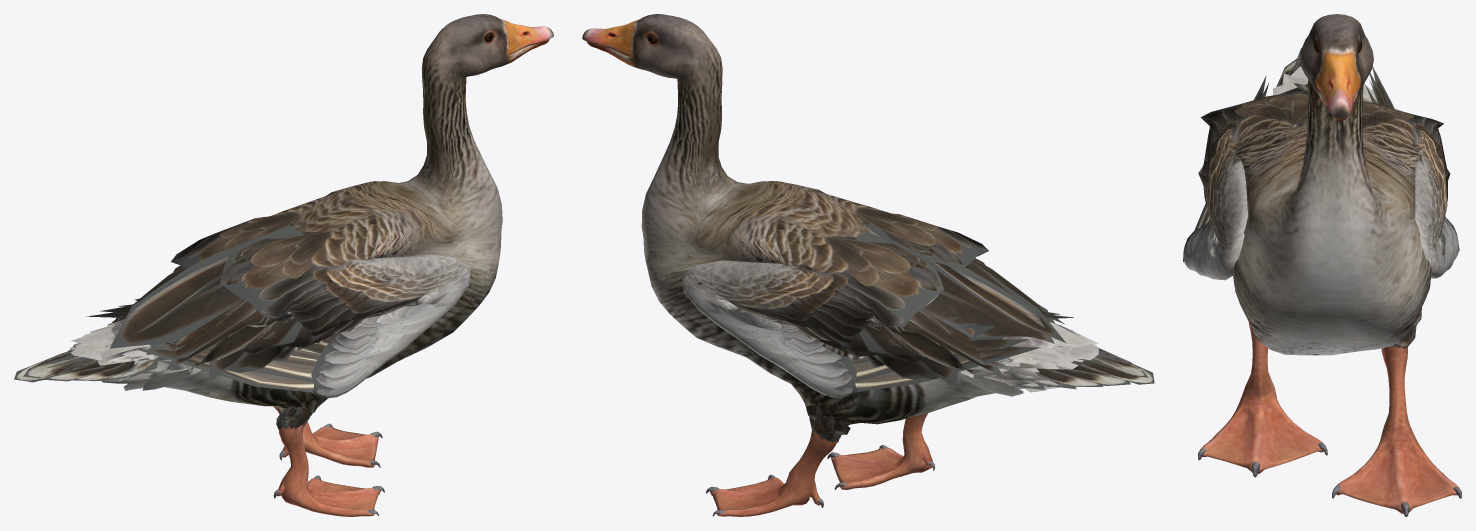
Rendered from imported-goose.glb.
The picture shows the model from 3 angles, left to right: view 1: azimuth 30°, elevation 25°; view 2: azimuth 150°, elevation 25°; view 3: azimuth 270°, elevation 25°; orthographic projection. The views are drawn at different scales.
Parts seen in each view (by area): view 1: Goose.001_applied_clean_M_Goose_0; view 2: Goose.001_applied_clean_M_Goose_0; view 3: Goose.001_applied_clean_M_Goose_0.
Part boxes in pixels (x1,y1,x2,y2): Goose.001_applied_clean_M_Goose_0: [14, 14, 553, 516]; Goose.001_applied_clean_M_Goose_0: [582, 14, 1154, 516]; Goose.001_applied_clean_M_Goose_0: [1183, 14, 1461, 516].
Size of the model in its own units: 0.8339 by 0.62 by 0.2928.
Materials: 1 (1 with a texture image).
